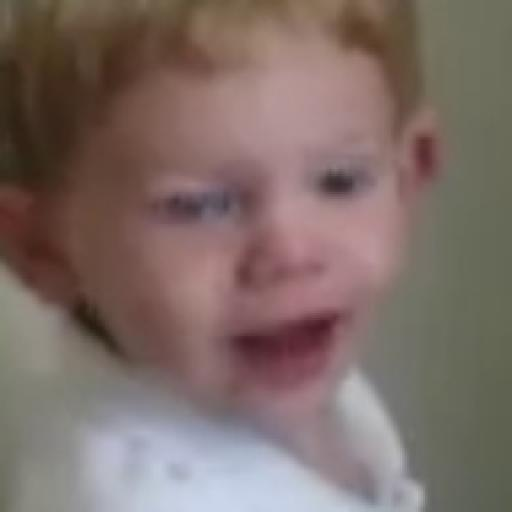Autism: (25, 5, 470, 442)
